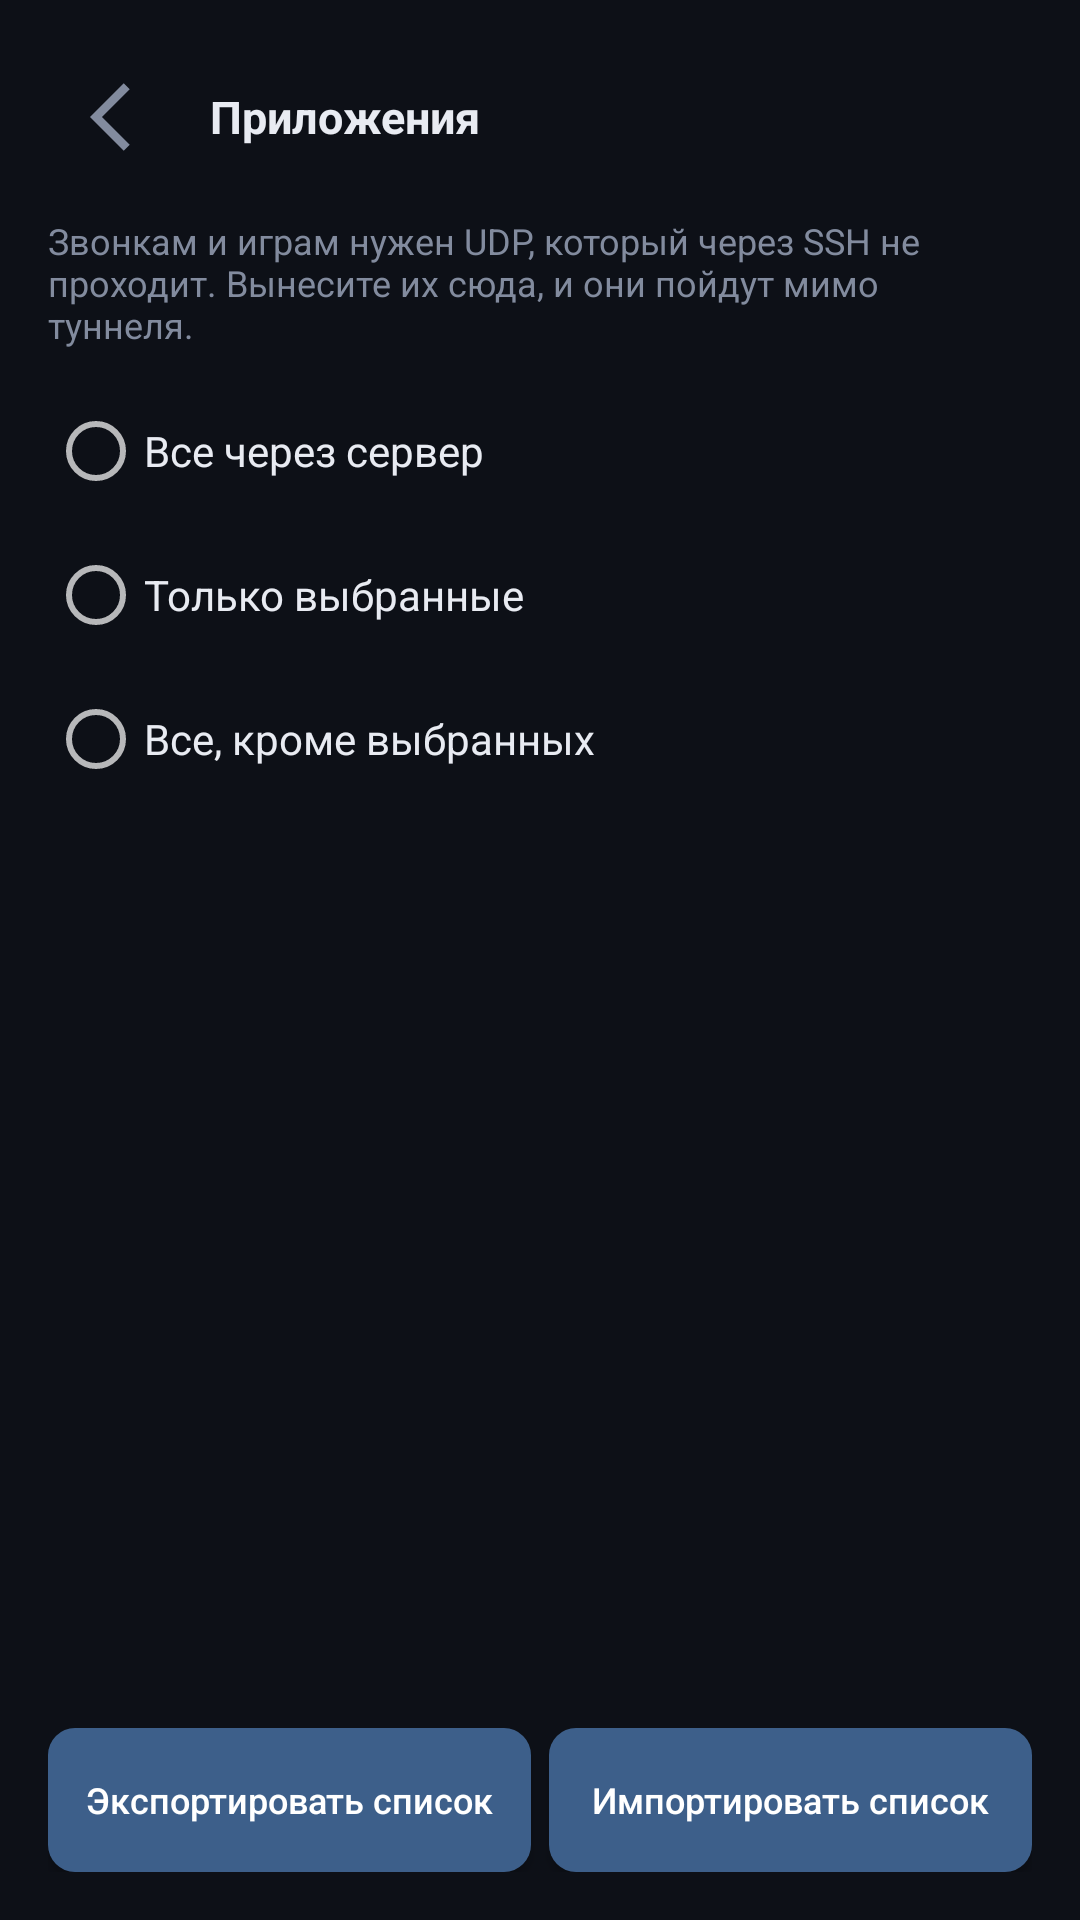

Icons on this 1080×1920 Android screen, each with its box as (x1, y1, x2, y2):
Назад: (90, 83, 130, 151)
